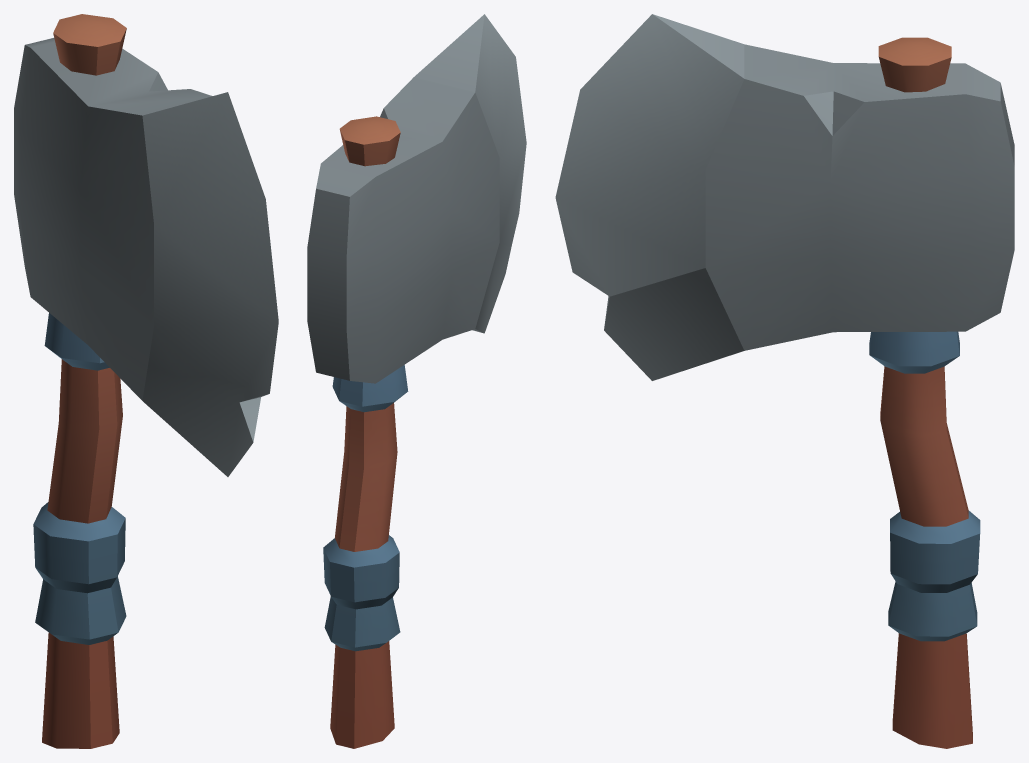
Rendered from war_axe.glb.
3 renders of one model, left to right at view 1: azimuth 30°, elevation 25°; view 2: azimuth 150°, elevation 25°; view 3: azimuth 270°, elevation 25°, orthographic. The views are drawn at different scales.
Parts seen in each view (by area): view 1: war_axe; view 2: war_axe; view 3: war_axe.
Part boxes in pixels (box(x1,y1,x2,y2)): war_axe: box(14, 14, 278, 748); war_axe: box(307, 14, 526, 748); war_axe: box(555, 14, 1014, 748).
Bounding box in the file's own units: 0.1189 × 0.8 × 0.4592.
Materials: 1 (1 with a texture image).
